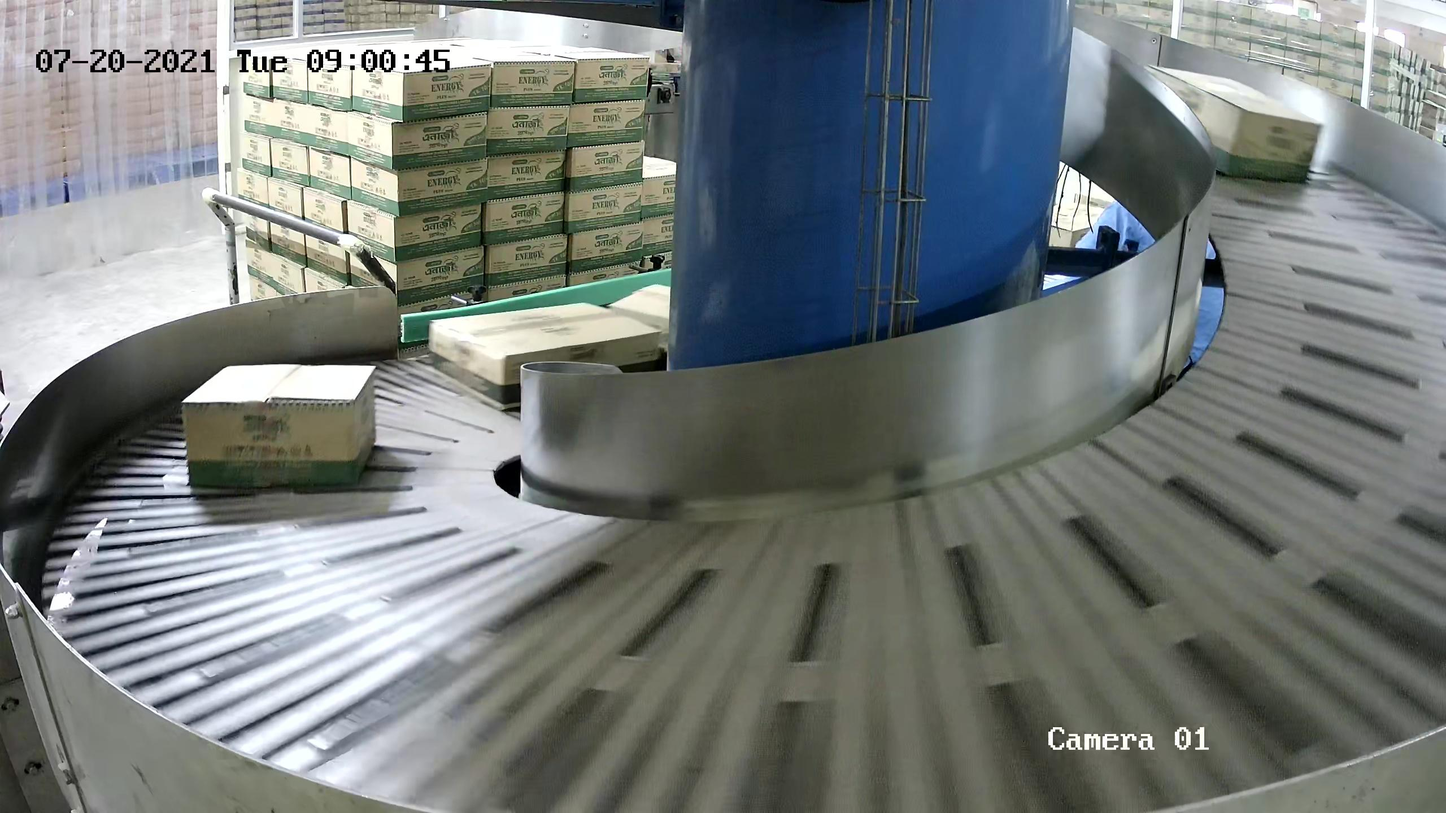Box: (425, 298, 664, 413), (179, 360, 379, 492), (1139, 60, 1324, 185)
